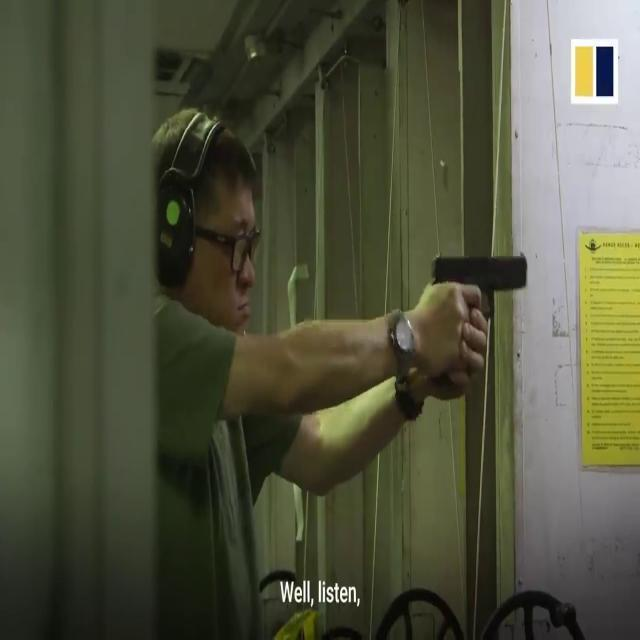Handgun: (423, 244, 540, 388)
